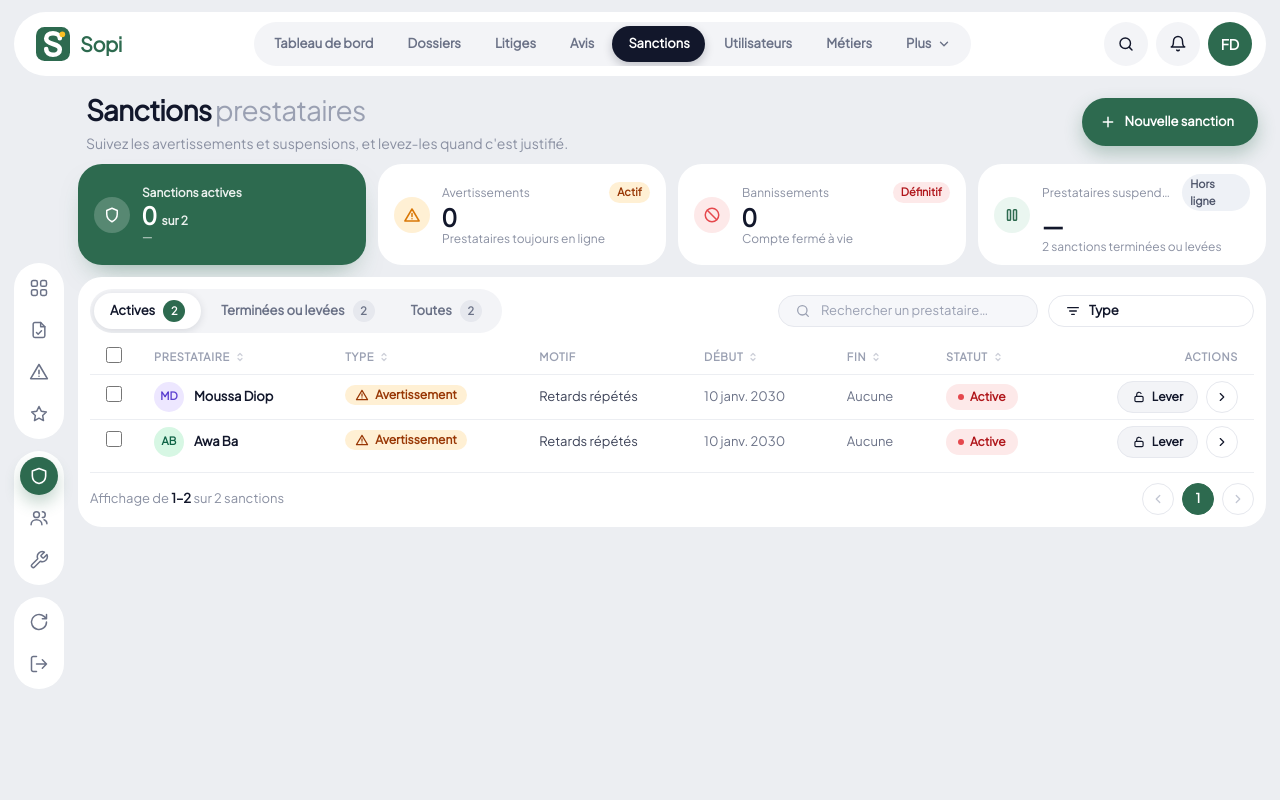
Test: Sanctions : tri, sélection et levée groupée › échec total : 0 sur 2 traité, rien n’est décoché
Check: the table named "Liste des sanctions" is shown, box [90,341,1254,464]
Click the checkbox named "Tout sélectionner": (114, 355) [106,347,122,363]
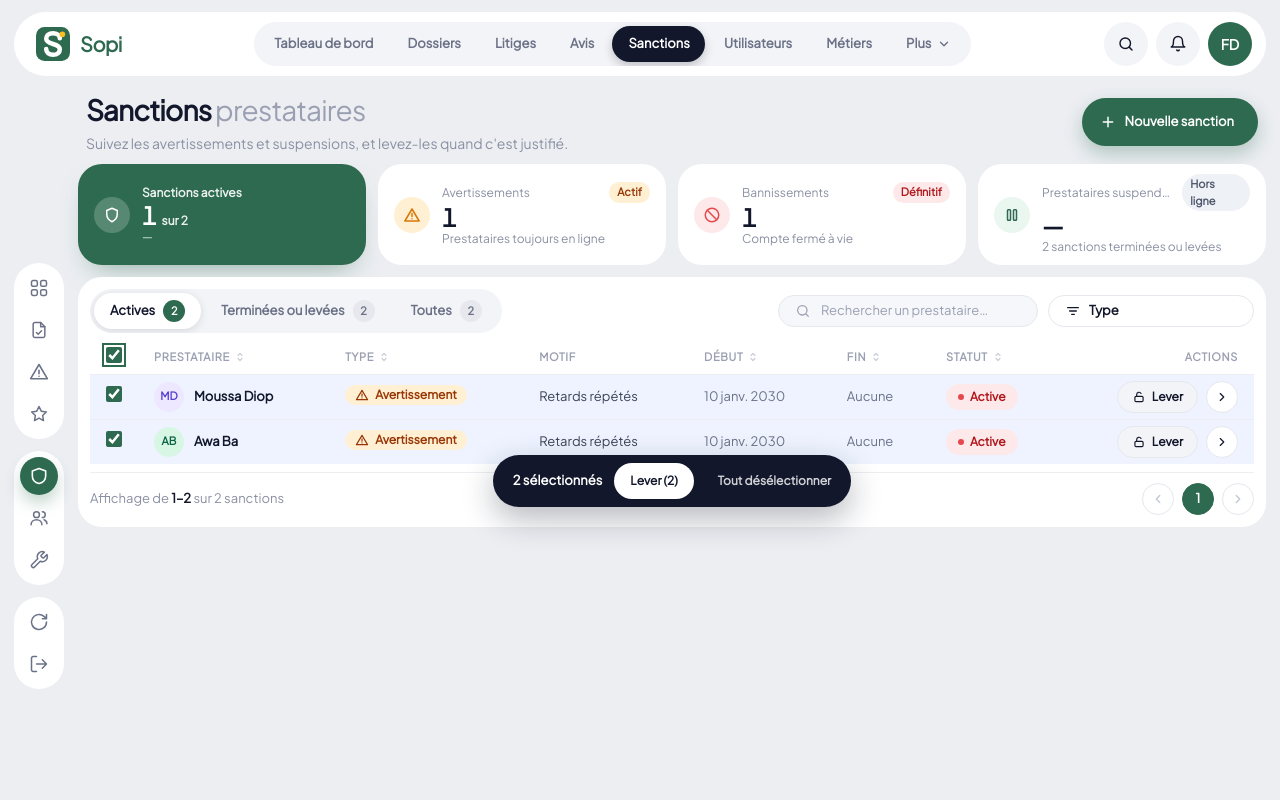
Click the button "Lever (2)": (654, 480) [614,462,694,498]
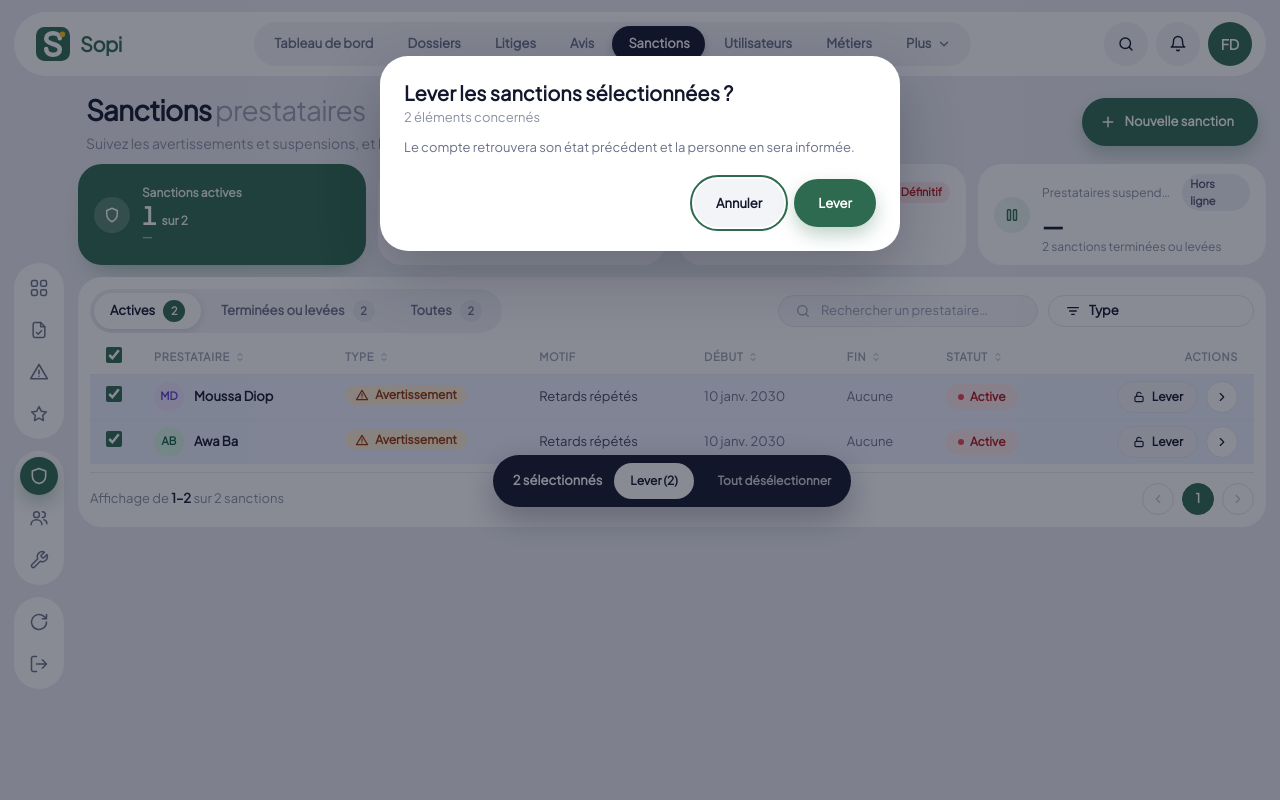
Click the button "Lever": (835, 203) [794,179,876,227]
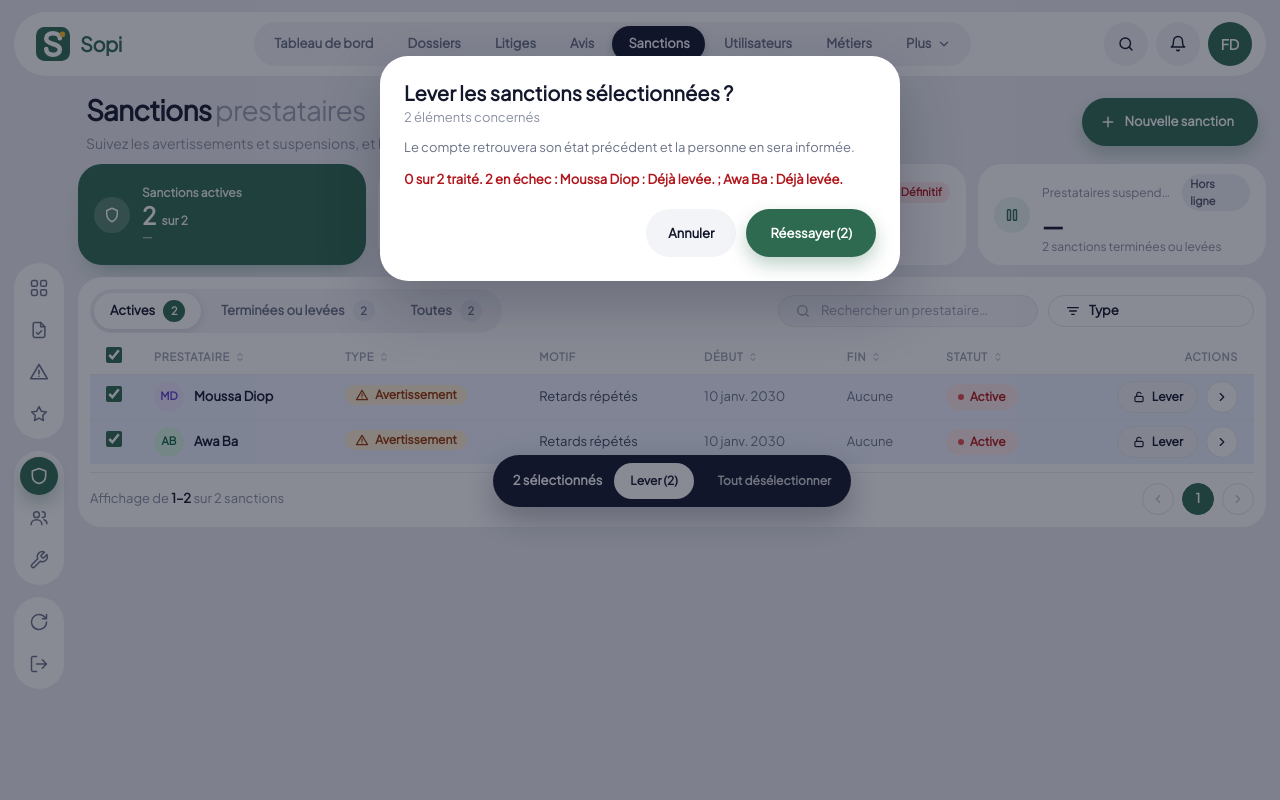
Check: the text "2 sélectionnés" is shown, box [513,471,602,490]
Check: the message shows "0 sur 2 traité.", box [404,171,843,187]
